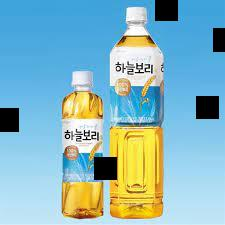haneulbori: (61, 72, 104, 218)
